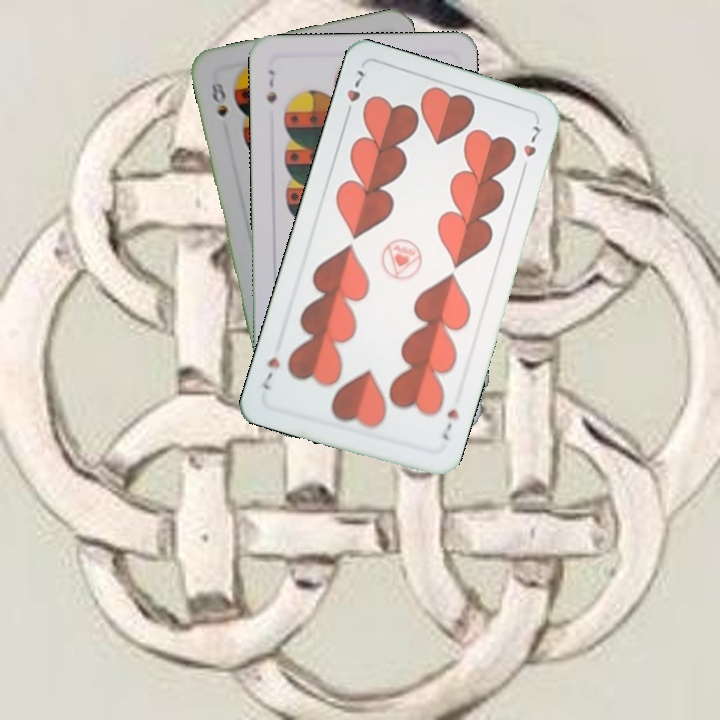H7: (341, 66, 367, 122), (437, 404, 461, 443)
S7: (262, 66, 279, 106)
S8: (207, 79, 230, 119)
